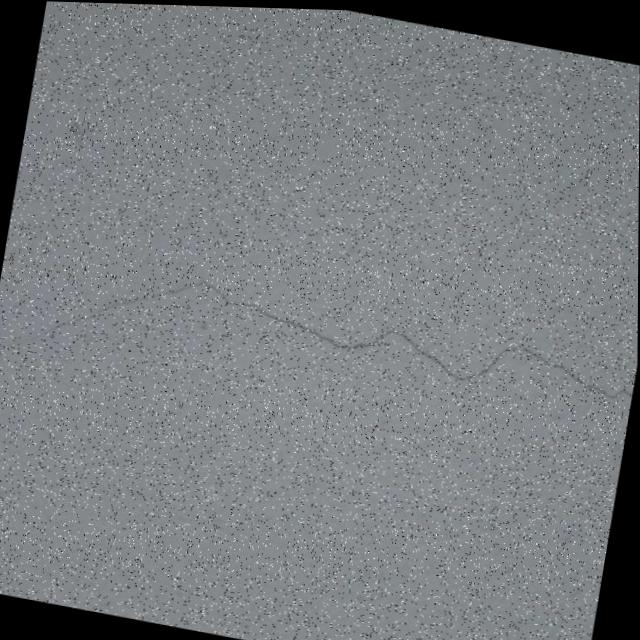Crack: (0, 228, 630, 491)
